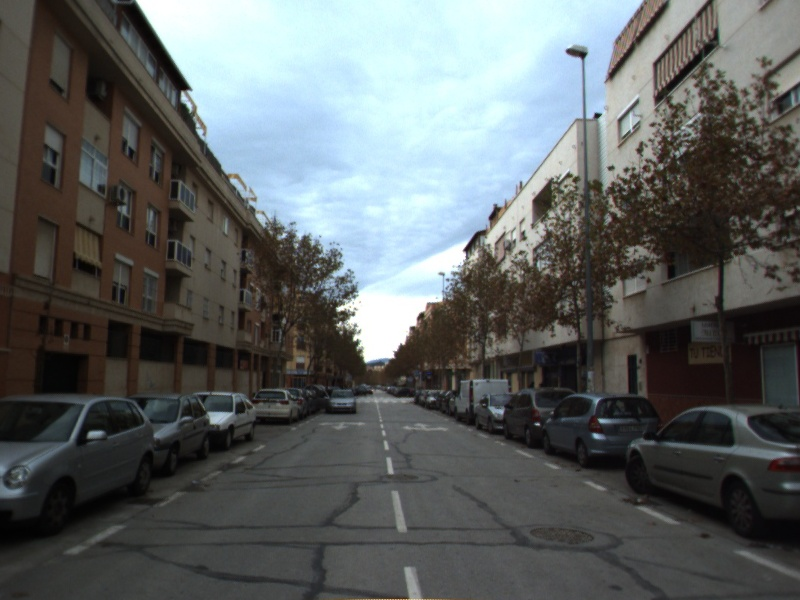STRAIGHT_LEFT_RIGHT: (400, 421, 451, 433)
